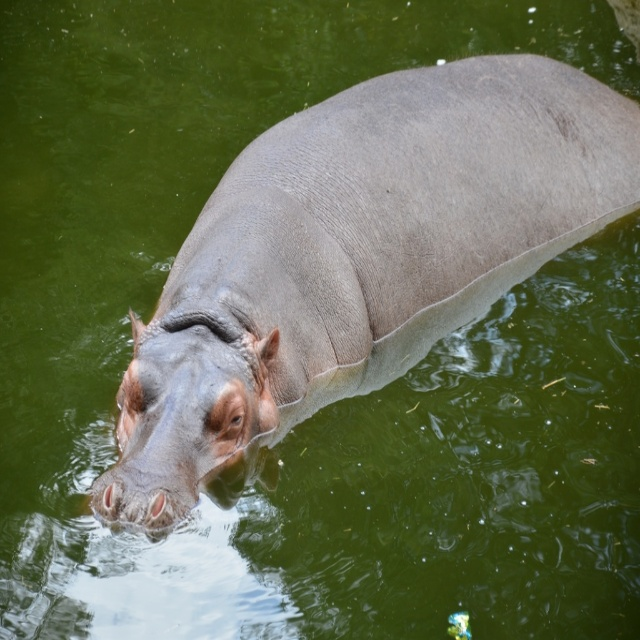Hippopotamus: (89, 47, 640, 564)
